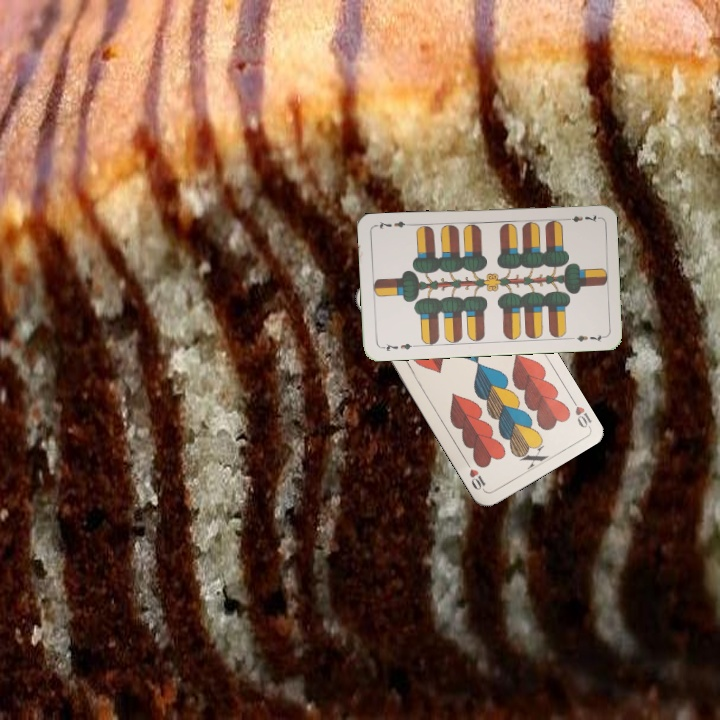E7: (378, 339, 418, 354), (560, 211, 601, 225)
H10: (566, 393, 594, 431)
